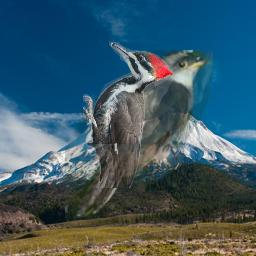Cuckoo: (65, 50, 213, 223)
Woodpecker: (83, 40, 173, 188)
